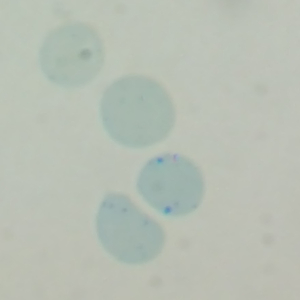erythrocyte: (99, 73, 177, 151), (37, 22, 107, 88)
punctate reticulocyte: (93, 191, 168, 266), (135, 151, 205, 218)
